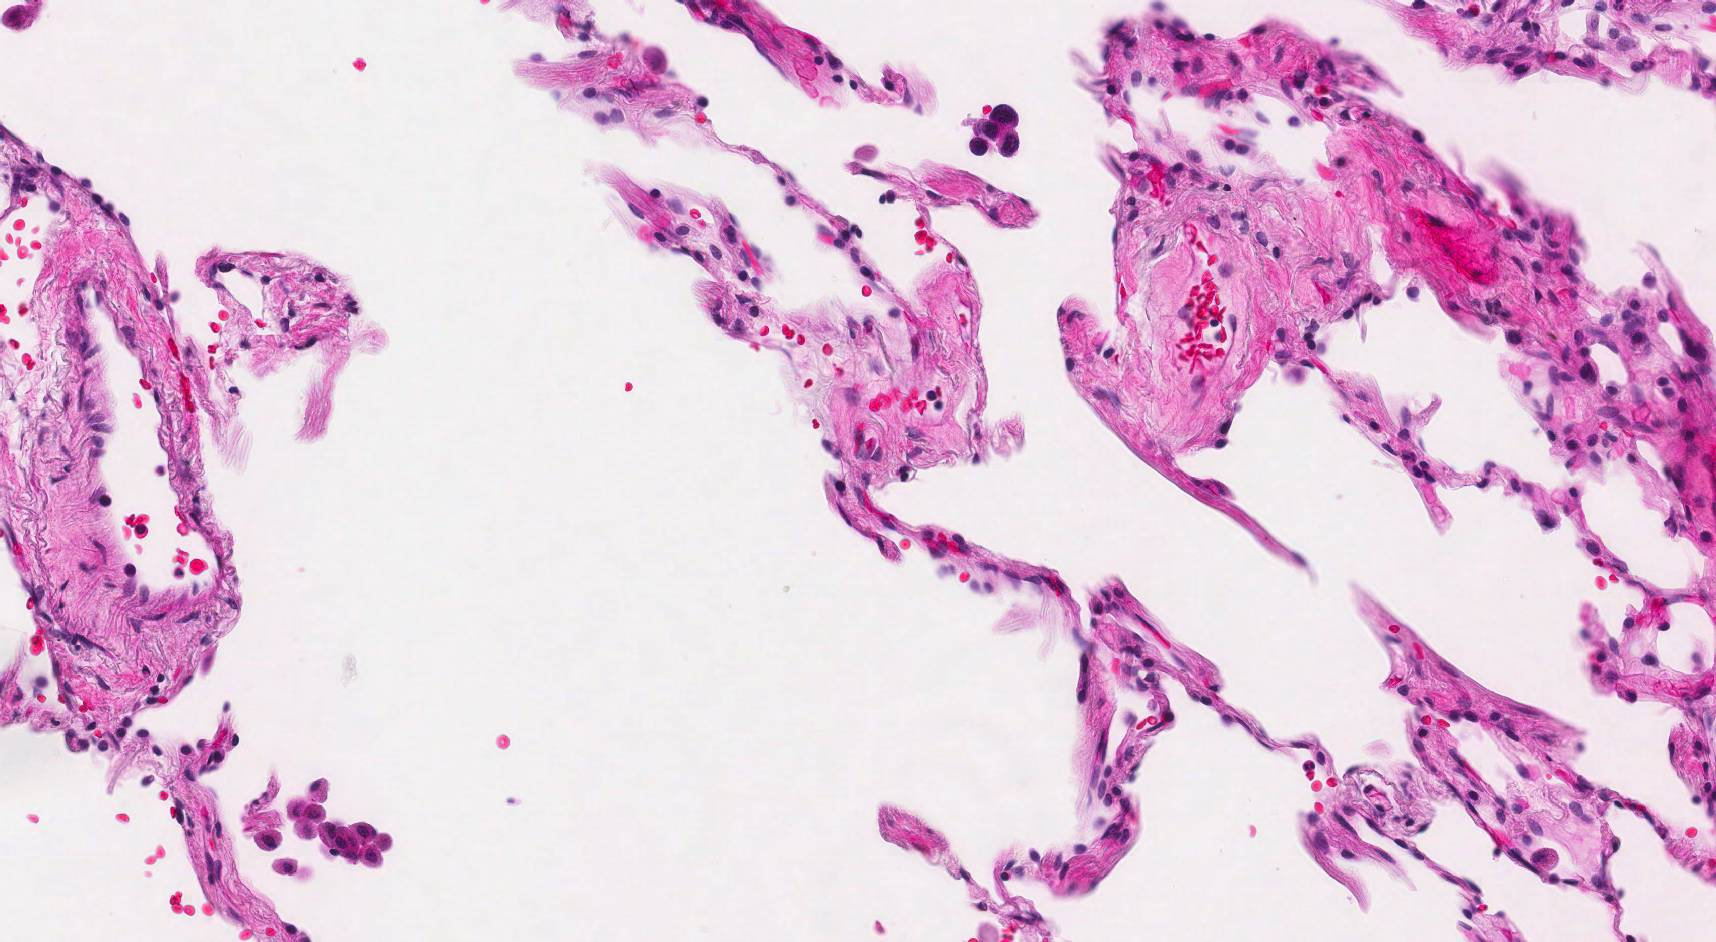stas: (965, 101, 1019, 160)
